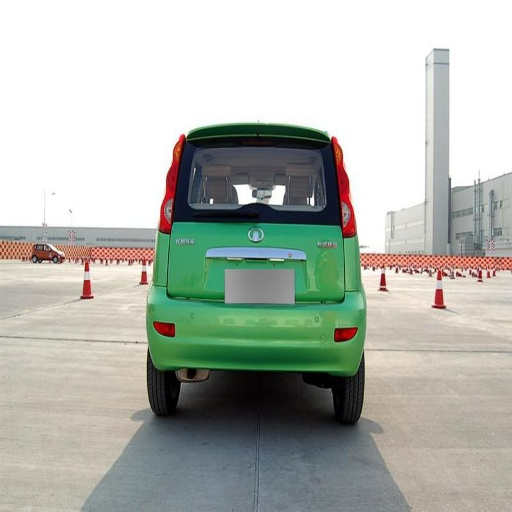back_bumper: (148, 293, 365, 373)
trunk: (161, 222, 346, 337)
